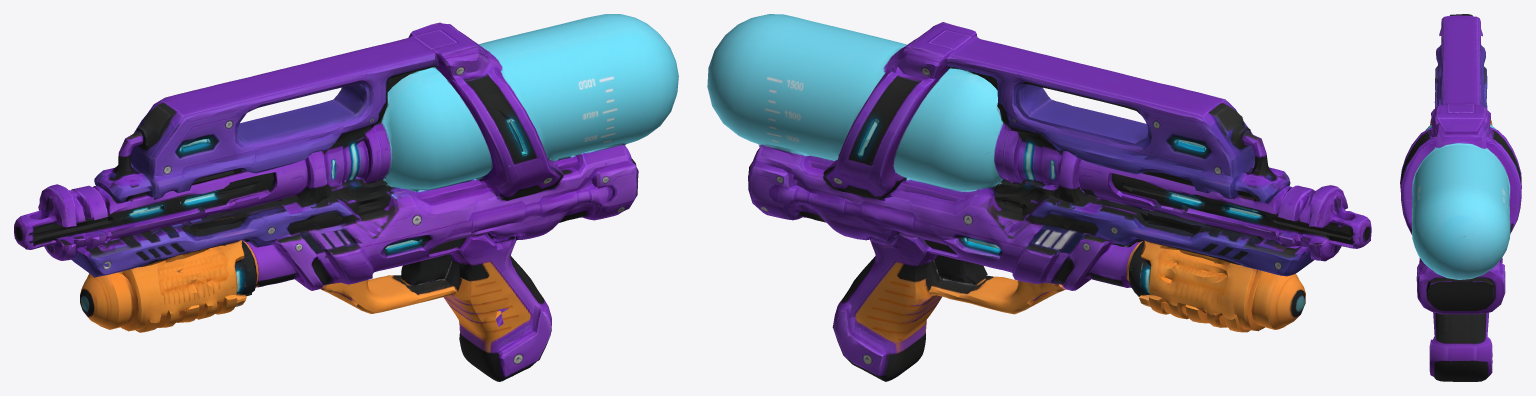
File: Meshy_AI_futuristic_water_rifl_1118113725_texture.fbx
3 renders of one model, left to right at view 1: azimuth 30°, elevation 25°; view 2: azimuth 150°, elevation 25°; view 3: azimuth 270°, elevation 25°, orthographic. The views are drawn at different scales.
Parts seen in each view (by area): view 1: Mesh0; view 2: Mesh0; view 3: Mesh0.
Part boxes in pixels (x1,y1,x2,y2): Mesh0: (14,14,678,381); Mesh0: (707,14,1371,381); Mesh0: (1400,14,1521,381).
Size of the model in its own units: 190 by 95.66 by 42.12.
Materials: 1 (1 with a texture image).
